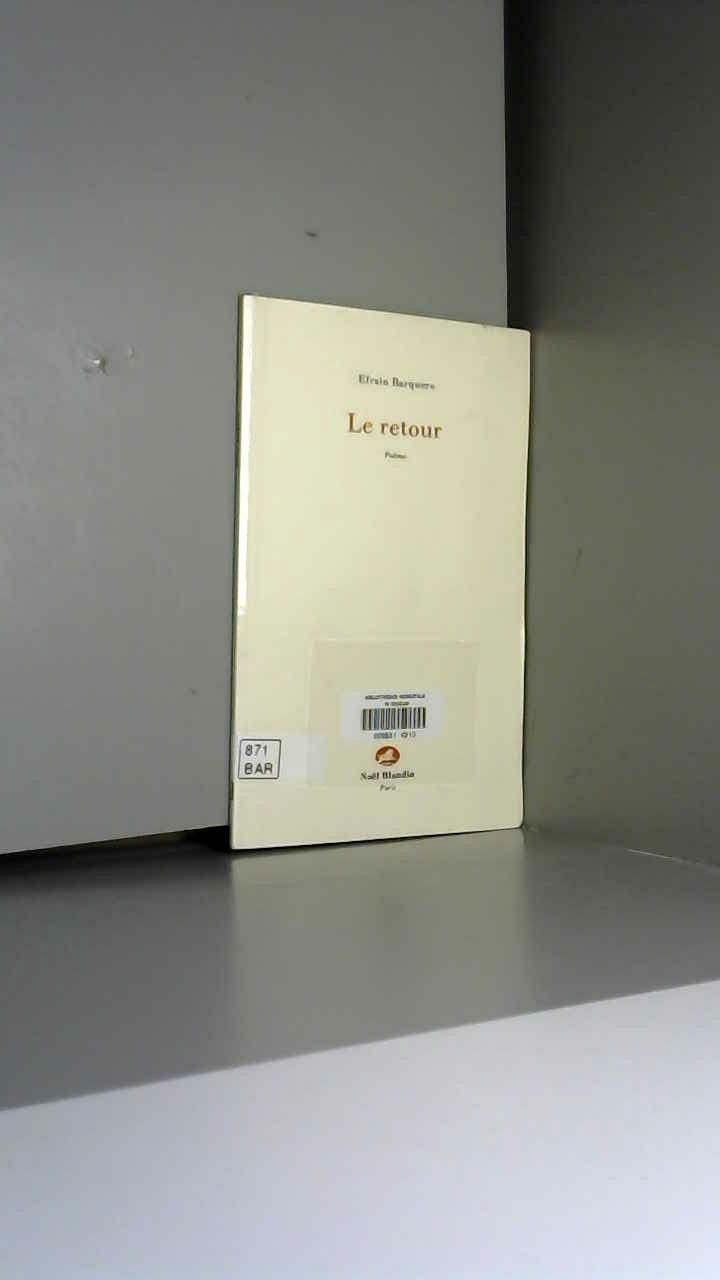book: (197, 266, 576, 893)
